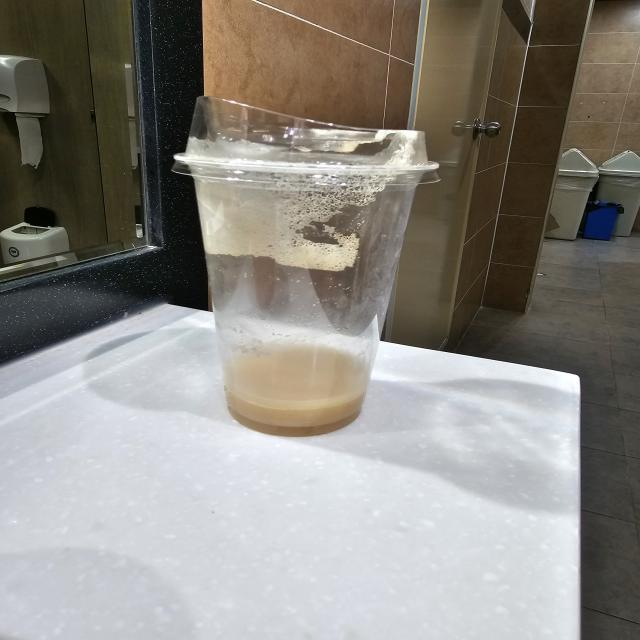cup: (164, 91, 442, 438)
